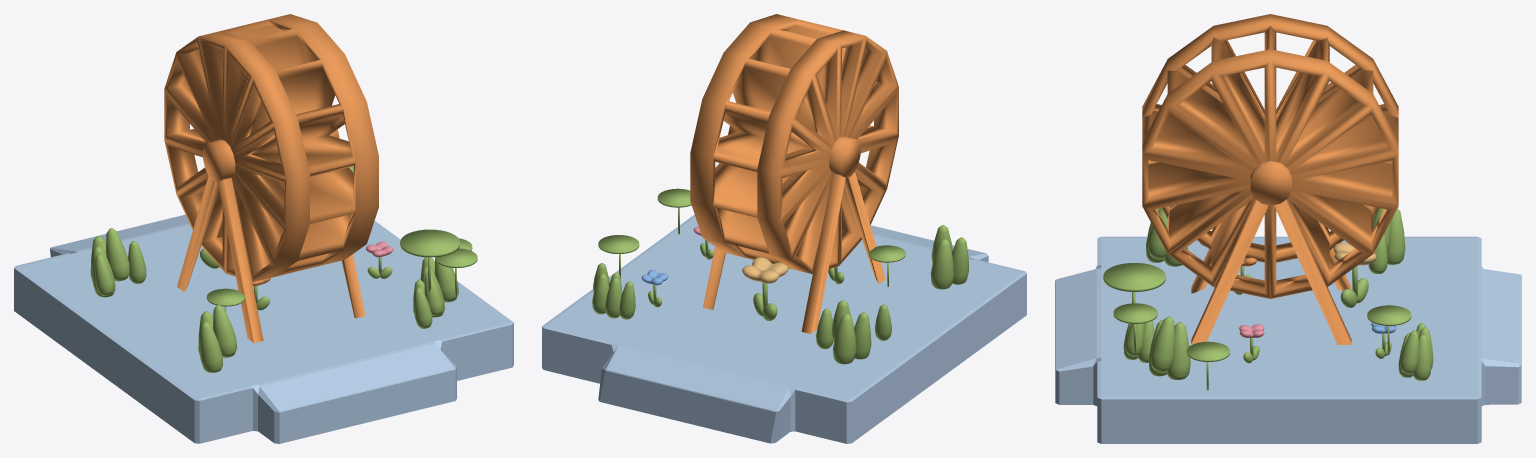
Rendered from whileblock.fbx.
The picture shows the model from 3 angles, left to right: view 1: azimuth 30°, elevation 25°; view 2: azimuth 150°, elevation 25°; view 3: azimuth 270°, elevation 25°; orthographic projection. The views are drawn at different scales.
Parts seen in each view (by area): view 1: Cylinder.096; view 2: Cylinder.096; view 3: Cylinder.096.
Boxes of the visible parts, bbox=[...] form: Cylinder.096: bbox=[14, 14, 513, 443]; Cylinder.096: bbox=[542, 14, 1026, 443]; Cylinder.096: bbox=[1055, 14, 1521, 443].
Size of the model in its own units: 168 by 154 by 200.
